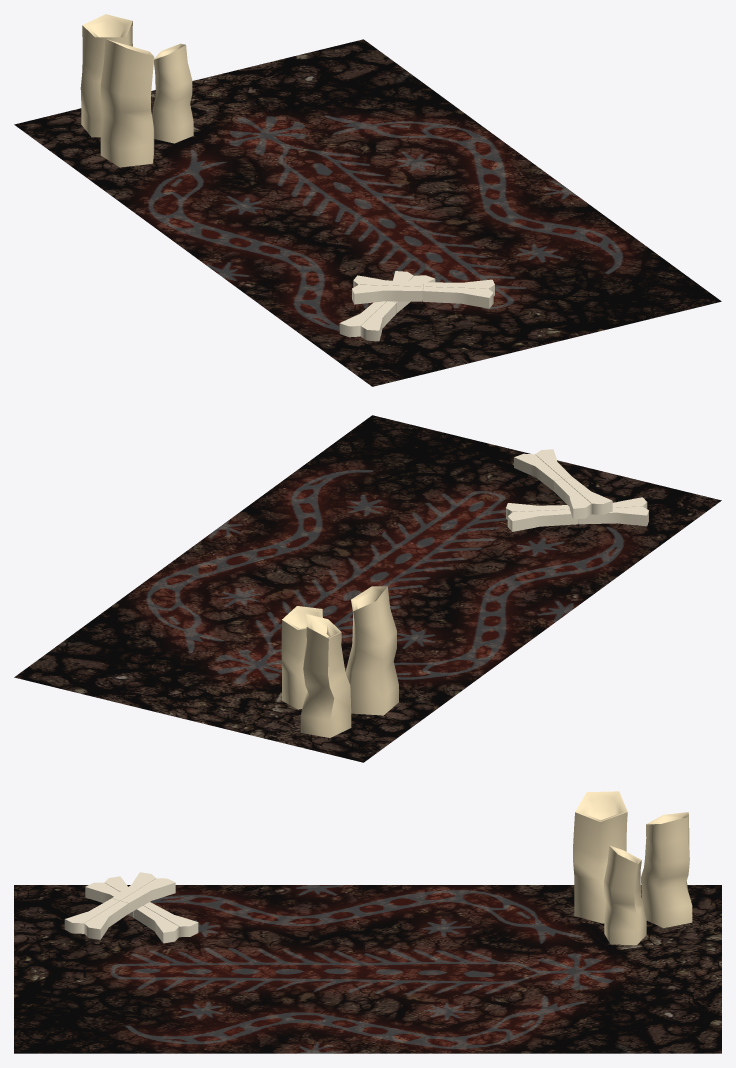
Rendered from VoodooTemplate.dae.
The picture shows the model from 3 angles, top to bottom: view 1: azimuth 30°, elevation 25°; view 2: azimuth 150°, elevation 25°; view 3: azimuth 270°, elevation 25°; orthographic projection.
Parts seen in each view (by area): view 1: BG, Cylinder, Cylinder.1, Bone_2, Cylinder.2, Bone_1; view 2: BG, Cylinder, Cylinder.2, Bone_1, Bone_2, Cylinder.1; view 3: BG, Cylinder, Cylinder.2, Cylinder.1, Bone_2, Bone_1.
Boxes of the visible parts, left/top/right/bottom form: BG: left=14, top=39, right=721, bottom=386; Cylinder: left=100, top=39, right=154, bottom=167; Cylinder.1: left=152, top=43, right=193, bottom=143; Bone_2: left=352, top=275, right=494, bottom=308; Cylinder.2: left=80, top=14, right=132, bottom=137; Bone_1: left=339, top=271, right=435, bottom=341; BG: left=14, top=415, right=721, bottom=762; Cylinder: left=345, top=586, right=398, bottom=715; Cylinder.2: left=300, top=614, right=351, bottom=737; Bone_1: left=506, top=497, right=648, bottom=531; Bone_2: left=514, top=449, right=612, bottom=519; Cylinder.1: left=281, top=606, right=322, bottom=709; BG: left=14, top=885, right=721, bottom=1053; Cylinder: left=573, top=791, right=627, bottom=923; Cylinder.2: left=641, top=812, right=692, bottom=928; Cylinder.1: left=604, top=845, right=646, bottom=945; Bone_2: left=64, top=872, right=175, bottom=939; Bone_1: left=85, top=876, right=198, bottom=943.
Size of the model in its own units: 640 by 209 by 1136.
